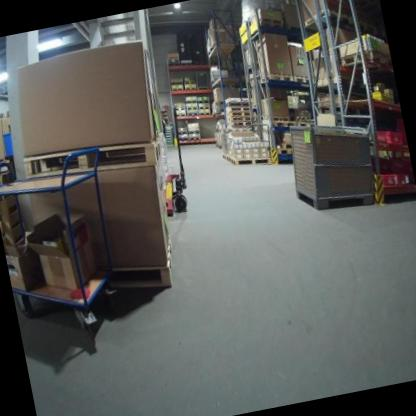pallet: (21, 129, 165, 192), (95, 238, 179, 302), (338, 46, 388, 73), (230, 148, 273, 173), (260, 68, 294, 88), (257, 11, 283, 28), (272, 116, 297, 132), (259, 16, 284, 32), (222, 94, 249, 108), (293, 72, 310, 88), (226, 102, 250, 113), (231, 119, 253, 131), (296, 118, 315, 131), (231, 113, 252, 123), (276, 144, 292, 157), (228, 109, 251, 118), (280, 140, 292, 150), (219, 151, 228, 162), (170, 79, 183, 86), (197, 98, 210, 105), (225, 152, 232, 164), (188, 128, 200, 135), (188, 135, 200, 142), (183, 79, 196, 85), (185, 99, 198, 105), (168, 56, 180, 62), (168, 61, 180, 67), (171, 86, 183, 92), (198, 104, 210, 110), (186, 105, 198, 111), (174, 106, 186, 112), (187, 111, 199, 117), (181, 60, 192, 66), (185, 85, 196, 91), (199, 110, 210, 116), (178, 136, 188, 142), (175, 112, 186, 117), (177, 130, 188, 135)
pallet_truck: (148, 102, 200, 221)
small_load_carrier: (374, 124, 406, 152), (372, 170, 400, 188), (392, 163, 412, 187)
stillage: (279, 108, 385, 219)
